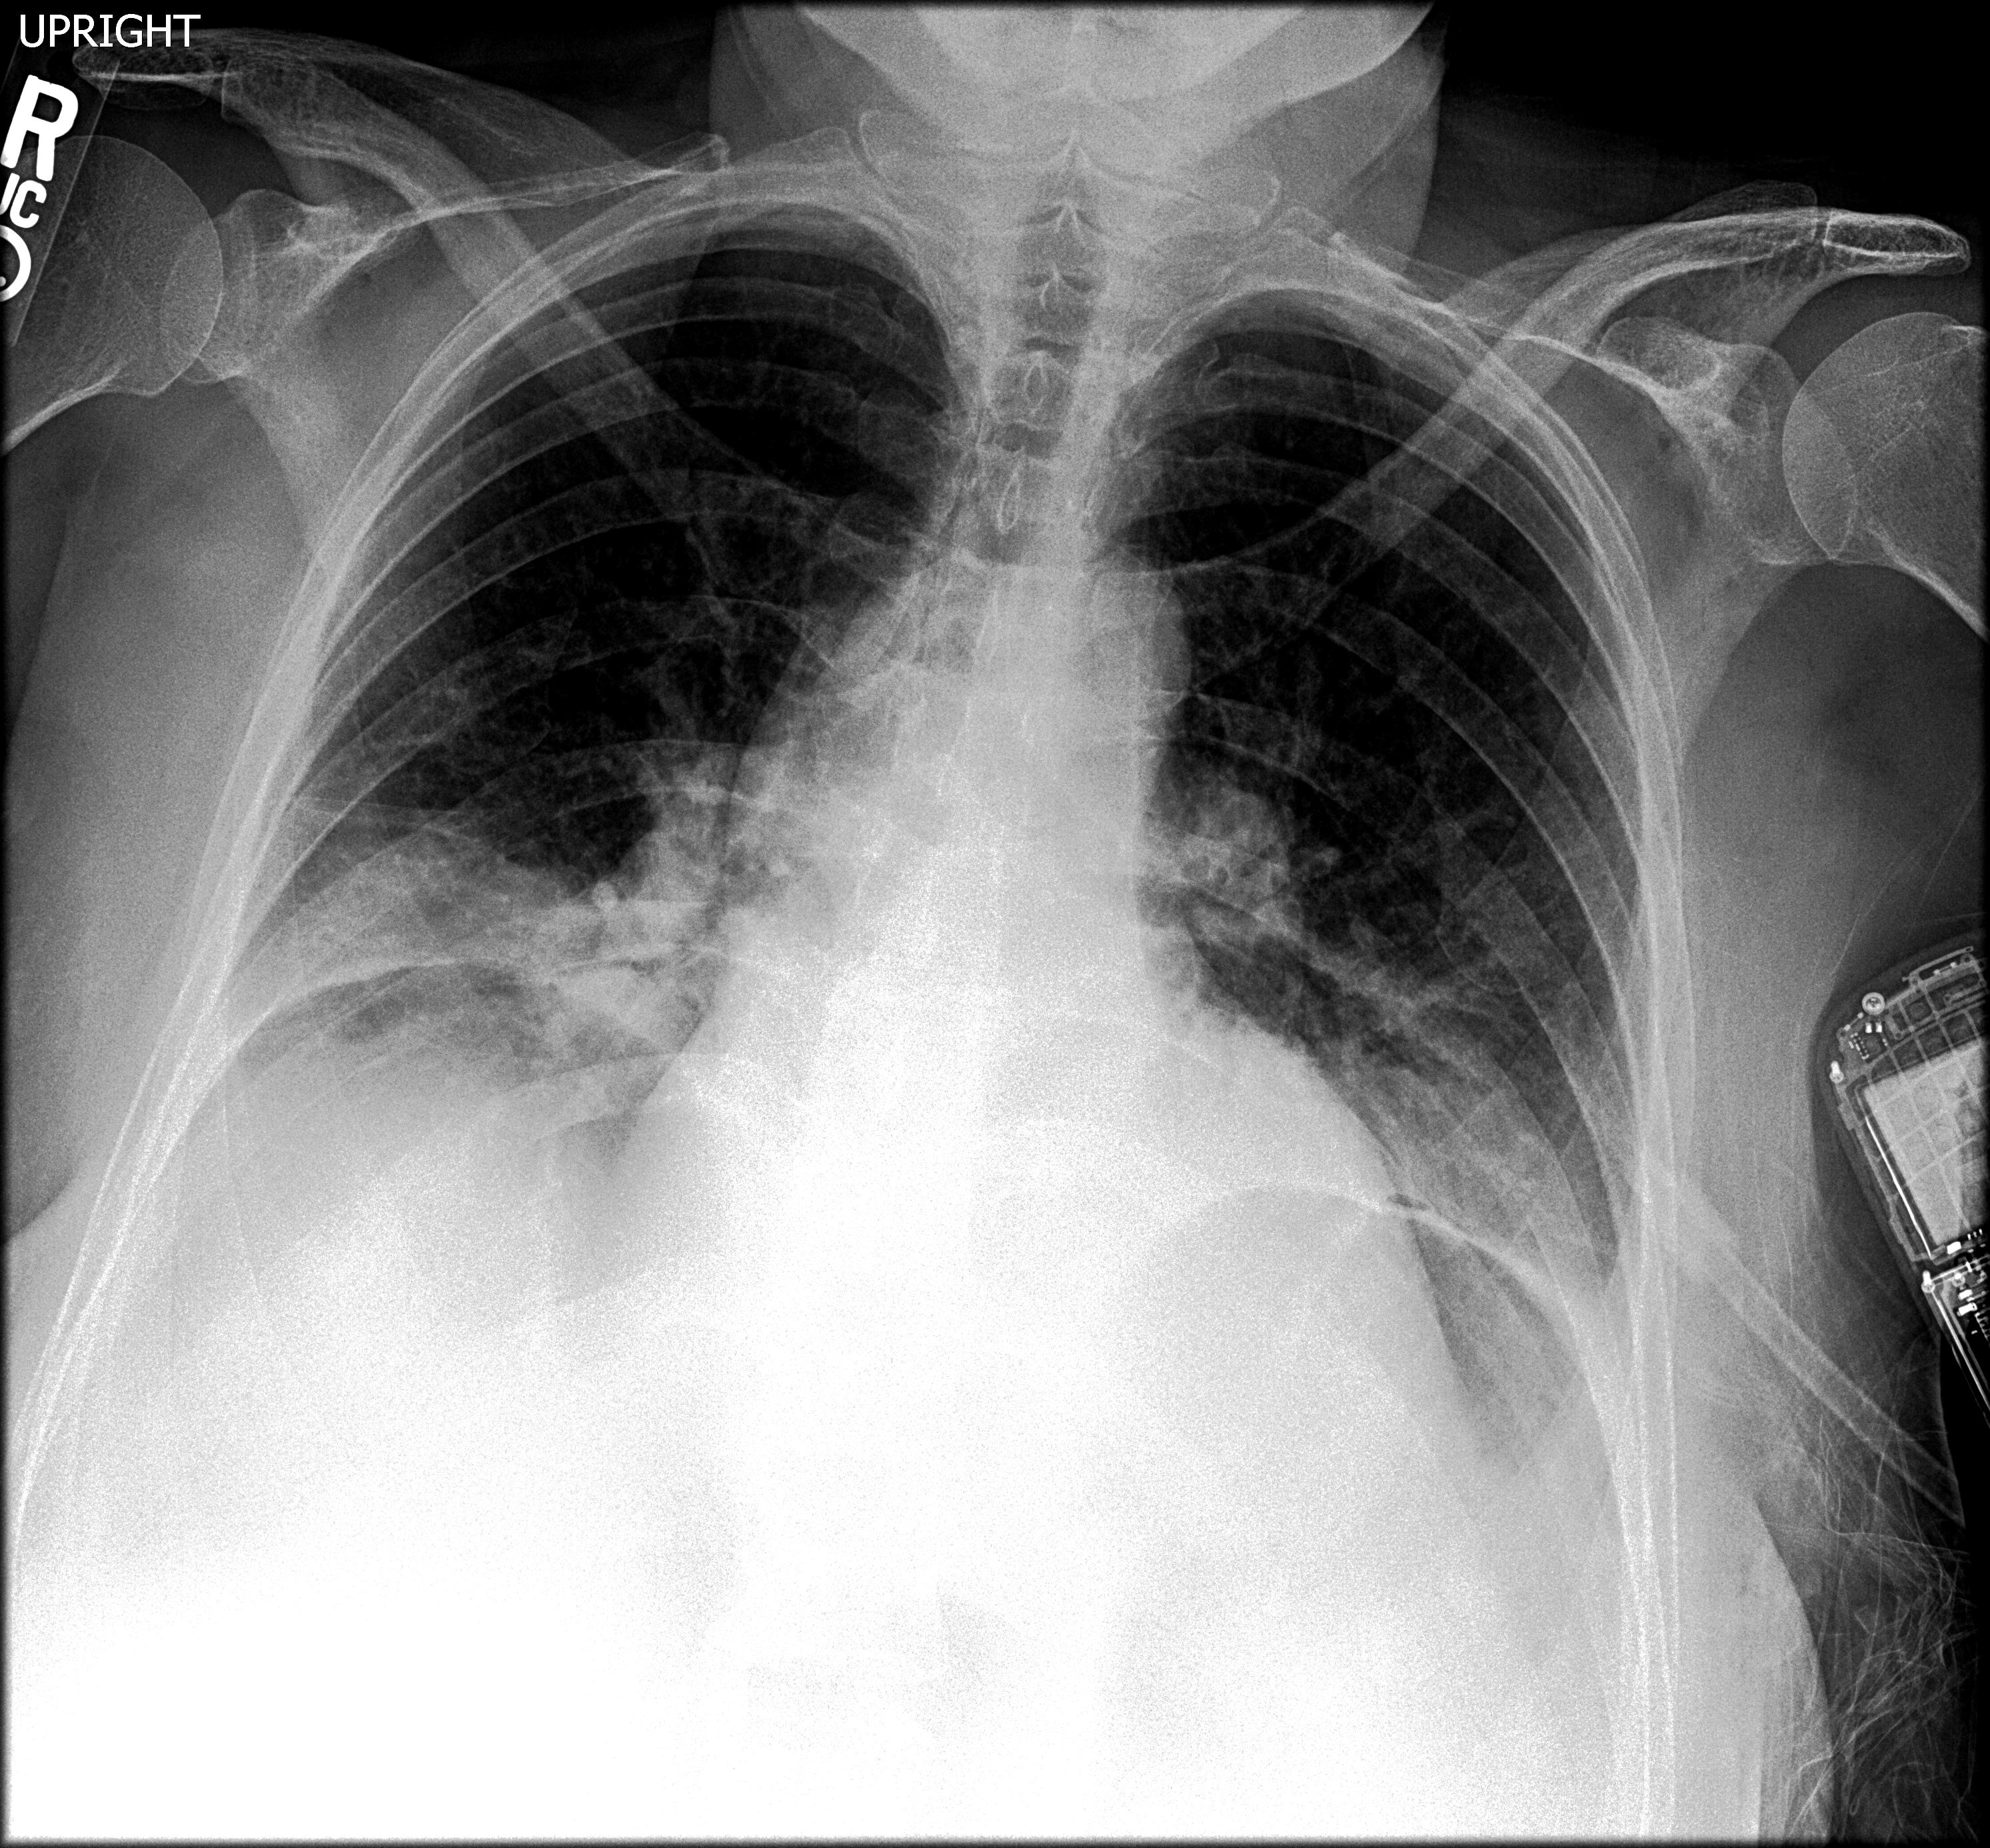Pleural Effusion: (109, 888, 582, 1245)
